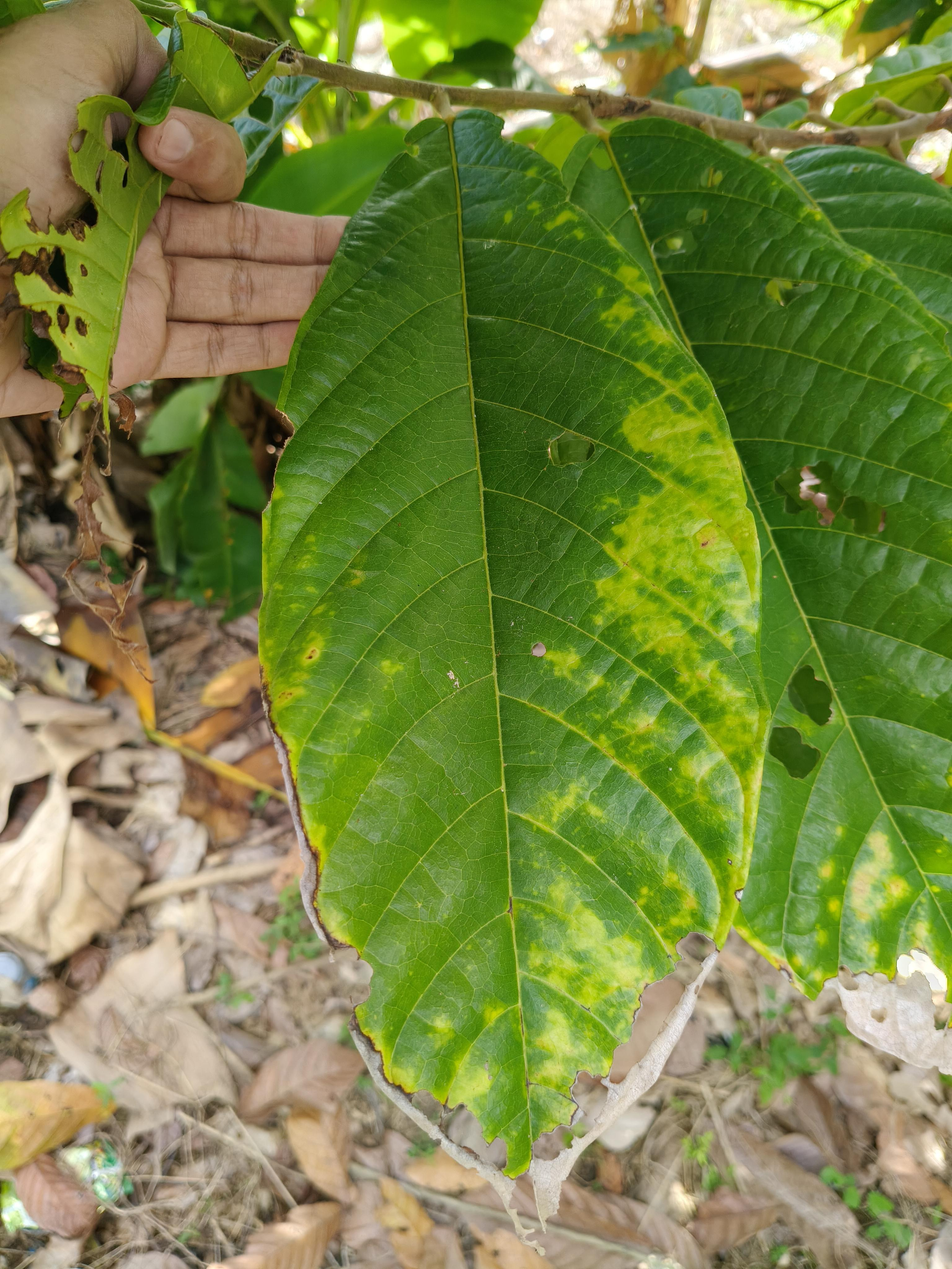deficiencia_potasio: (242, 136, 762, 1227)
